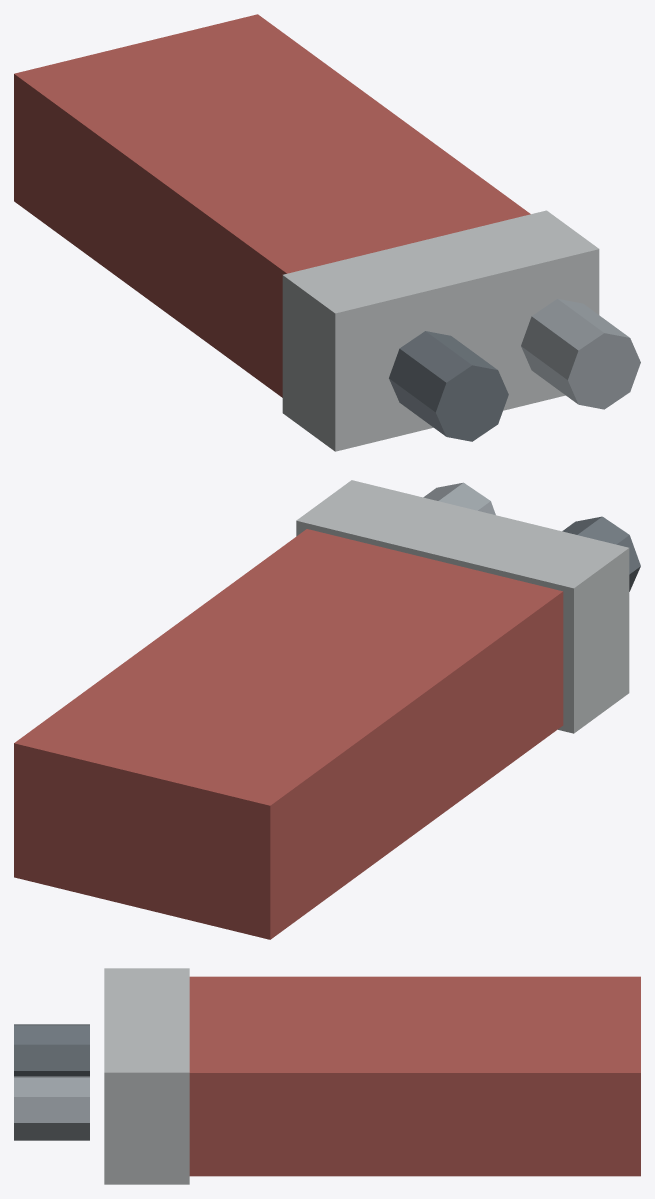
Rendered from lighter.glb.
3 renders of one model, top to bottom at view 1: azimuth 30°, elevation 25°; view 2: azimuth 150°, elevation 25°; view 3: azimuth 270°, elevation 25°, orthographic. The views are drawn at different scales.
Visible parts, largest first — view 1: 00_lighter_body, 01_hood, 03_lever, 02_flint_wheel; view 2: 00_lighter_body, 01_hood, 03_lever, 02_flint_wheel; view 3: 00_lighter_body, 01_hood, 02_flint_wheel, 03_lever.
Boxes of the visible parts, <box> form: 00_lighter_body: <box>14,14,530,397</box>; 01_hood: <box>282,210,599,451</box>; 03_lever: <box>389,331,508,441</box>; 02_flint_wheel: <box>521,298,640,409</box>; 00_lighter_body: <box>14,529,563,939</box>; 01_hood: <box>296,480,629,733</box>; 03_lever: <box>562,516,640,591</box>; 02_flint_wheel: <box>423,482,495,514</box>; 00_lighter_body: <box>189,976,640,1176</box>; 01_hood: <box>104,968,189,1184</box>; 02_flint_wheel: <box>14,1076,89,1140</box>; 03_lever: <box>14,1024,89,1076</box>.
Bounding box in the file's own units: 0.13 × 0.065 × 0.33.
